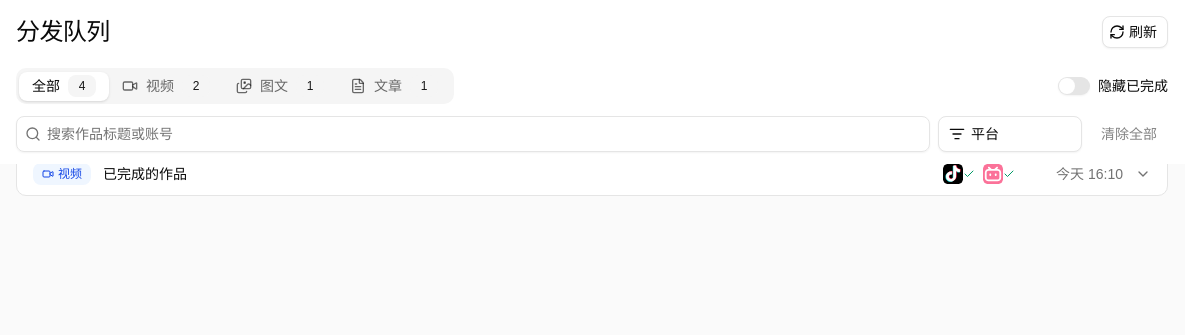
Scenario: collapses completed works into one expandable row
The image size is (1185, 335).
Expected: the element named "2 个账号已发布" is shown, [943,164,1015,184]
Expected: the link "去平台查看" is not shown
Step 1. Click the button "视频 已完成的作品 今天 16:10" → (62, 174), box [17,153,1167,195]
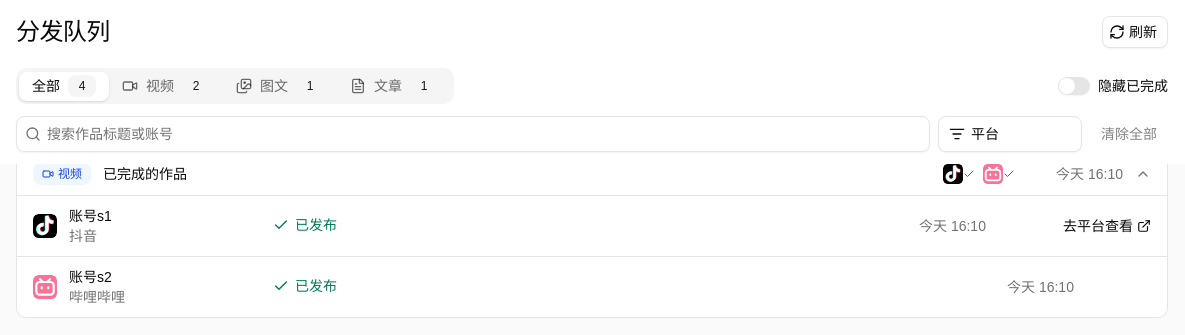
Expected: the link "去平台查看" is shown, [1063,216,1151,236]
